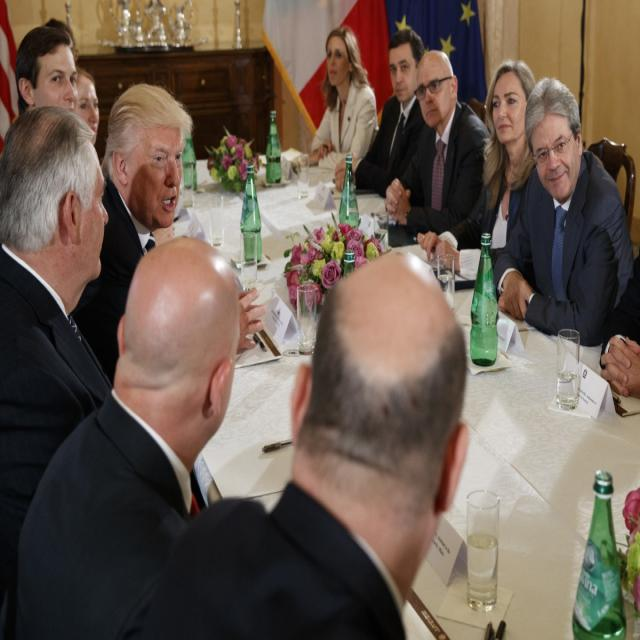body: (116, 245, 472, 640), (11, 228, 242, 640), (0, 102, 113, 640), (485, 74, 636, 349), (66, 79, 190, 389), (416, 58, 539, 282), (384, 49, 495, 250), (334, 26, 432, 208), (3, 13, 105, 169), (307, 22, 378, 189), (597, 242, 639, 410)
